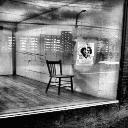chair_success: (44, 56, 76, 97)
